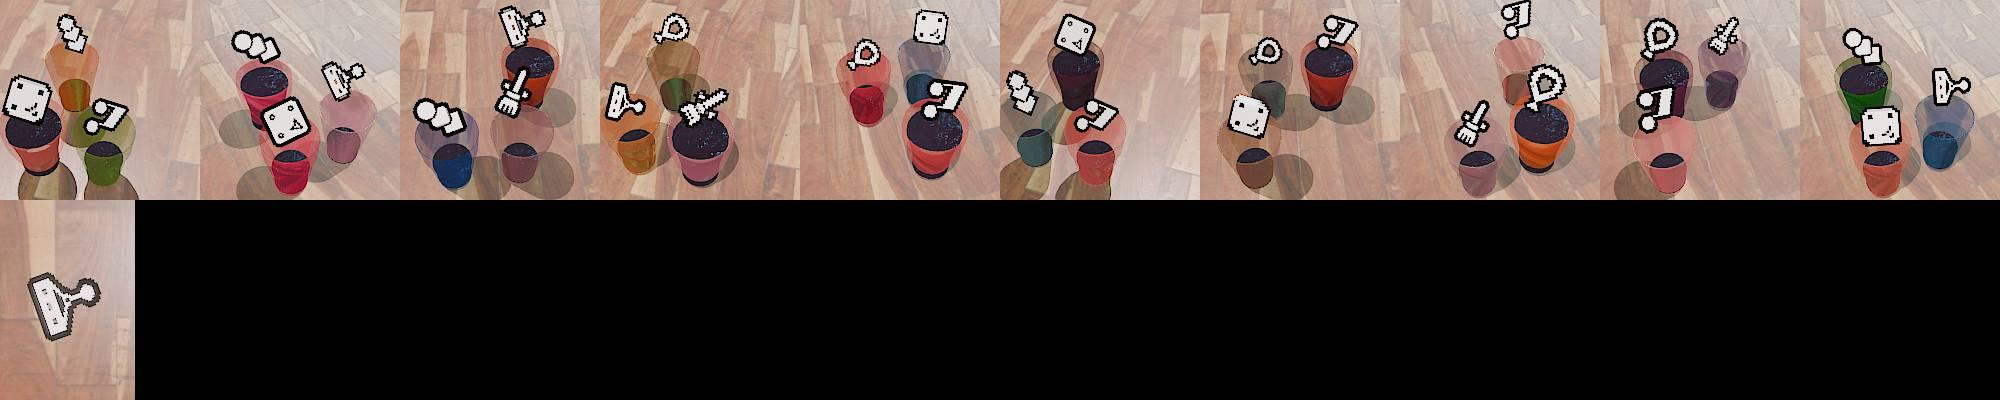icon: (27, 273, 106, 340), (1, 74, 55, 124), (260, 97, 312, 146), (413, 96, 467, 138), (497, 5, 547, 50), (921, 78, 969, 121), (679, 85, 730, 126), (1523, 64, 1568, 108), (1635, 84, 1676, 132), (320, 60, 366, 102), (495, 68, 532, 118), (1054, 13, 1097, 56), (1228, 93, 1270, 138), (1842, 27, 1885, 69), (231, 29, 283, 64), (1455, 98, 1491, 148), (1860, 104, 1902, 146), (1640, 18, 1680, 62), (605, 80, 647, 121), (84, 98, 128, 136), (1931, 68, 1972, 107), (1075, 97, 1120, 132), (1005, 69, 1038, 116), (1319, 14, 1358, 51), (912, 8, 949, 47), (55, 13, 89, 54), (1707, 15, 1740, 56), (654, 11, 693, 46), (1500, 0, 1533, 39), (1247, 36, 1284, 66), (846, 38, 880, 70)
